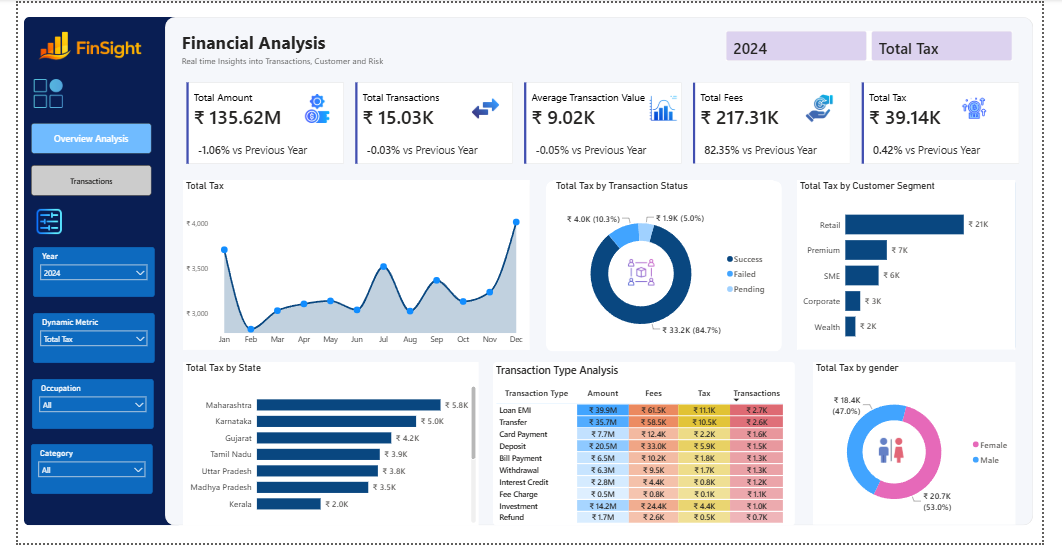

The page's visual inventory and layout, read from the dashboard file:
{"tool":"powerbi","page":{"name":"Overview Analysis","canvas":[1800,950],"ordinal":0},"visuals":[{"type":"shape","box":[9.8,24.5,279.6,894.4],"z":0},{"type":"shape","box":[258.4,24.5,1527.3,894.4],"z":1000},{"type":"image","box":[0,39.2,258.4,73.6],"z":2000},{"type":"cardVisual","fields":{"Data":["finance_transactions.Dashboard Title"]},"box":[271.4,24.5,426.8,109.6],"z":3000},{"type":"cardVisual","fields":{"Data":["finance_transactions.Total Amount","finance_transactions.Total Transactions","finance_transactions.Average Transaction Value","finance_transactions.Total Fees","finance_transactions.Total Tax"]},"box":[289.4,134.1,1479.8,155],"z":4000},{"type":"slicer","fields":{"Values":["Calendar Table.Year"]},"box":[26.2,430.1,214.2,88.3],"z":5000},{"type":"image","box":[498.7,160.2,57.2,50.7],"z":6000},{"type":"image","box":[796.3,160.2,50.7,50.7],"z":7000},{"type":"image","box":[1385,160.2,50,50],"z":8000},{"type":"image","box":[1110.3,160.2,50,50],"z":9000},{"type":"image","box":[1656.4,160.2,50,50.7],"z":10000},{"type":"slicer","fields":{"Values":["Dynamic Metric.Dynamic Metric"]},"box":[26.2,544.5,214.2,88.3],"z":11000},{"type":"shape","box":[289.4,310.7,609.9,299.2],"z":12000},{"type":"areaChart","fields":{"Y":["finance_transactions.Total Tax"],"Category":["Calendar Table.Month"]},"box":[289.4,310.7,609.9,299.2],"z":13000},{"type":"cardVisual","fields":{"Data":["finance_transactions.Selected Year","finance_transactions.Selected Dynamic Measure"]},"box":[1239.5,44.1,515.1,63.8],"z":14000},{"type":"shape","box":[928.8,312.3,415,300],"z":15000},{"type":"donutChart","fields":{"Y":["finance_transactions.Total Tax"],"Category":["finance_transactions.transaction_status"]},"box":[941.9,310.7,387.5,299.2],"z":16000},{"type":"shape","box":[1370.3,310.7,384.3,299.2],"z":17000},{"type":"barChart","fields":{"Y":["finance_transactions.Total Tax"],"Category":["customers.customer_segment"]},"box":[1370.3,310.7,384.3,299.2],"z":18000},{"type":"shape","box":[289.4,631.2,520,286.2],"z":19000},{"type":"barChart","fields":{"Y":["finance_transactions.Total Tax"],"Category":["customers.state"]},"box":[289.4,631.2,520,287.8],"z":20000},{"type":"shape","box":[835.6,631.2,531.4,287.8],"z":21000},{"type":"tableEx","title":"Transaction Type Analysis","fields":{"Values":["finance_transactions.transaction_type","finance_transactions.Total Amount","finance_transactions.Total Fees","finance_transactions.Total Tax","finance_transactions.Total Transactions"]},"box":[835.6,632.8,534.7,286.2],"z":22000},{"type":"shape","box":[1398.1,631.2,356.5,286.2],"z":23000},{"type":"donutChart","fields":{"Y":["finance_transactions.Total Tax"],"Category":["customers.gender"]},"box":[1398.1,631.2,356.5,286.2],"z":24000},{"type":"image","box":[1071,448,50,50],"z":25000},{"type":"image","box":[1510.9,762,50,50],"z":26000},{"type":"slicer","fields":{"Values":["customers.occupation"]},"box":[24.5,662.2,214.2,88.3],"z":27000},{"type":"slicer","fields":{"Values":["finance_transactions.merchant_category"]},"box":[22.9,776.7,214.2,88.3],"z":28000},{"type":"pageNavigator","box":[22.9,210.9,212.6,129.2],"z":29000},{"type":"image","box":[24.5,134.1,57.2,50.7],"z":30000},{"type":"image","box":[26.2,359.7,57.2,50.7],"z":31000}]}

Visuals, with their boxes on the page's 1800x950 design canvas (x1, y1, x2, y2). These are canvas units, not pixel positions in the 1062x546 screenshot, which may show the page scaled, cropped or inside an application window:
shape: (x1=10, y1=24, x2=289, y2=919)
shape: (x1=258, y1=24, x2=1786, y2=919)
image: (x1=0, y1=39, x2=258, y2=113)
cardVisual - finance_transactions.Dashboard Title: (x1=271, y1=24, x2=698, y2=134)
cardVisual - finance_transactions.Total Amount x finance_transactions.Total Transactions: (x1=289, y1=134, x2=1769, y2=289)
slicer - Calendar Table.Year: (x1=26, y1=430, x2=240, y2=518)
image: (x1=499, y1=160, x2=556, y2=211)
image: (x1=796, y1=160, x2=847, y2=211)
image: (x1=1385, y1=160, x2=1435, y2=210)
image: (x1=1110, y1=160, x2=1160, y2=210)
image: (x1=1656, y1=160, x2=1706, y2=211)
slicer - Dynamic Metric.Dynamic Metric: (x1=26, y1=544, x2=240, y2=633)
shape: (x1=289, y1=311, x2=899, y2=610)
areaChart - finance_transactions.Total Tax x Calendar Table.Month: (x1=289, y1=311, x2=899, y2=610)
cardVisual - finance_transactions.Selected Year x finance_transactions.Selected Dynamic Measure: (x1=1240, y1=44, x2=1755, y2=108)
shape: (x1=929, y1=312, x2=1344, y2=612)
donutChart - finance_transactions.Total Tax x finance_transactions.transaction_status: (x1=942, y1=311, x2=1329, y2=610)
shape: (x1=1370, y1=311, x2=1755, y2=610)
barChart - finance_transactions.Total Tax x customers.customer_segment: (x1=1370, y1=311, x2=1755, y2=610)
shape: (x1=289, y1=631, x2=809, y2=917)
barChart - finance_transactions.Total Tax x customers.state: (x1=289, y1=631, x2=809, y2=919)
shape: (x1=836, y1=631, x2=1367, y2=919)
"Transaction Type Analysis" tableEx: (x1=836, y1=633, x2=1370, y2=919)
shape: (x1=1398, y1=631, x2=1755, y2=917)
donutChart - finance_transactions.Total Tax x customers.gender: (x1=1398, y1=631, x2=1755, y2=917)
image: (x1=1071, y1=448, x2=1121, y2=498)
image: (x1=1511, y1=762, x2=1561, y2=812)
slicer - customers.occupation: (x1=24, y1=662, x2=239, y2=750)
slicer - finance_transactions.merchant_category: (x1=23, y1=777, x2=237, y2=865)
pageNavigator: (x1=23, y1=211, x2=236, y2=340)
image: (x1=24, y1=134, x2=82, y2=185)
image: (x1=26, y1=360, x2=83, y2=410)
